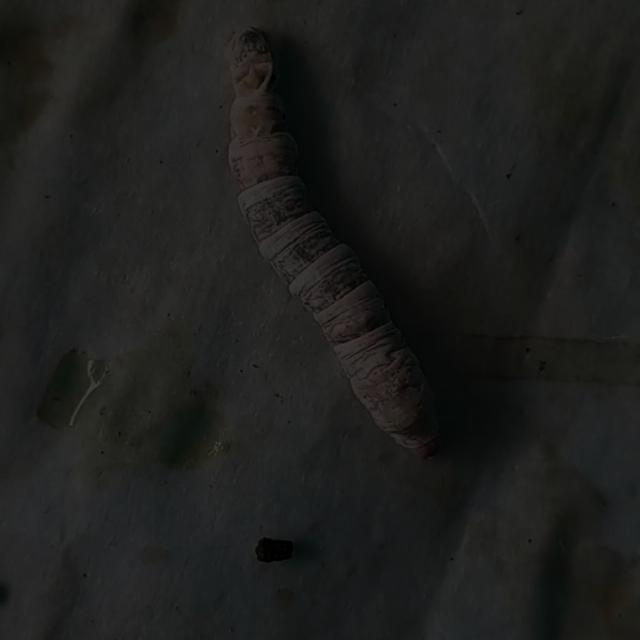Grasserie: (191, 14, 482, 477)
